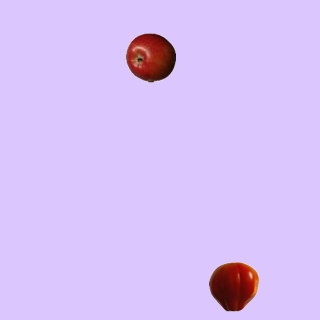Apple Braeburn: (125, 32, 175, 82)
Tomato 1: (208, 261, 258, 311)
